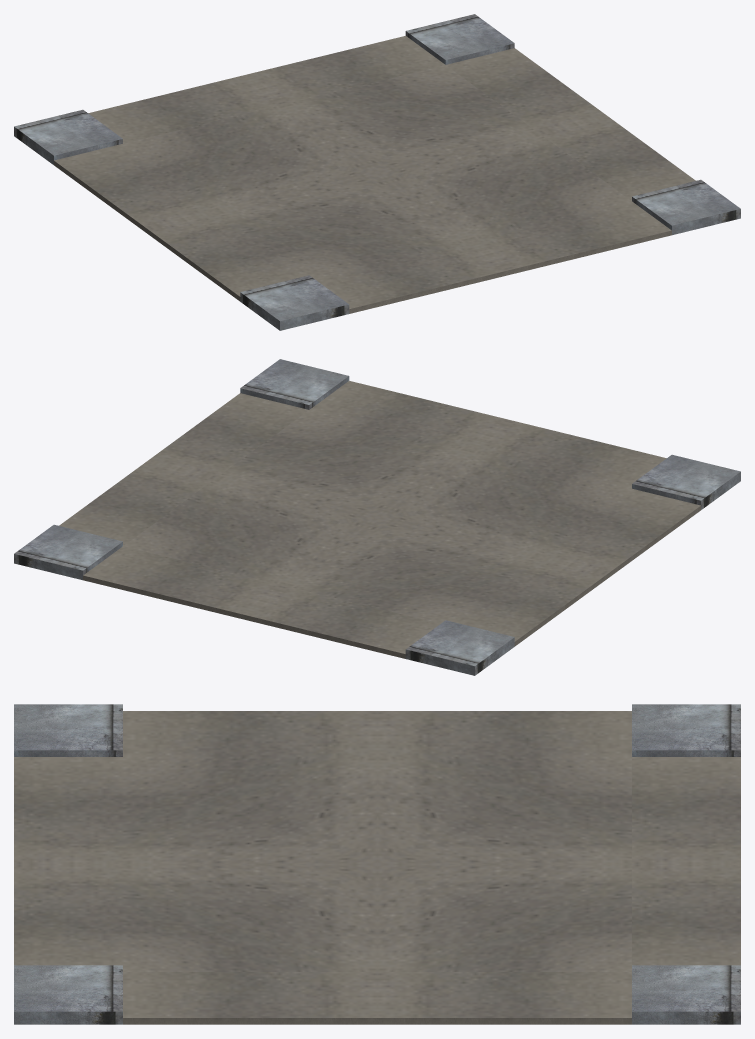
The model's file is Urban_Road3Junction_Model.fbx.
The picture shows the model from 3 angles, top to bottom: view 1: azimuth 30°, elevation 25°; view 2: azimuth 150°, elevation 25°; view 3: azimuth 270°, elevation 25°; orthographic projection. The views are drawn at different scales.
Visible parts, largest first — view 1: Urban_Road3Junction_Mesh; view 2: Urban_Road3Junction_Mesh; view 3: Urban_Road3Junction_Mesh.
Boxes of the visible parts, bbox=[...] form: Urban_Road3Junction_Mesh: bbox=[14, 14, 740, 330]; Urban_Road3Junction_Mesh: bbox=[14, 359, 740, 675]; Urban_Road3Junction_Mesh: bbox=[14, 704, 740, 1024].
Bounding box in the file's own units: 16 × 0.32 × 16.
